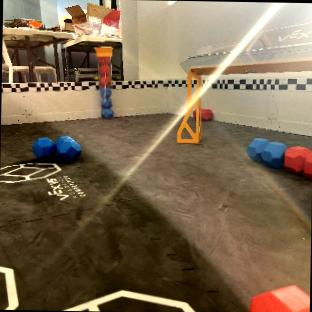V5_BLUE: (33, 135, 80, 160), (247, 138, 285, 167), (100, 87, 113, 117)
V5_RED: (251, 285, 309, 312), (95, 46, 113, 116), (285, 145, 312, 178), (200, 108, 211, 121), (192, 110, 195, 118)
